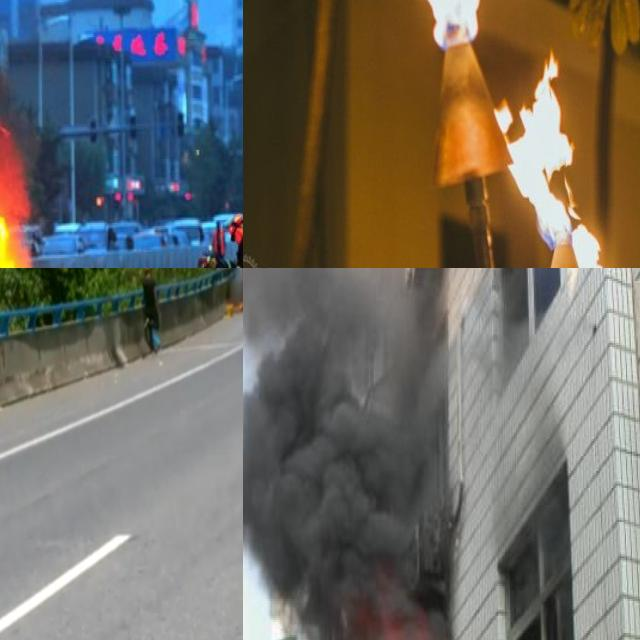fire: (496, 46, 584, 243), (419, 0, 485, 47), (574, 222, 619, 268)
smoke: (243, 268, 450, 640)
